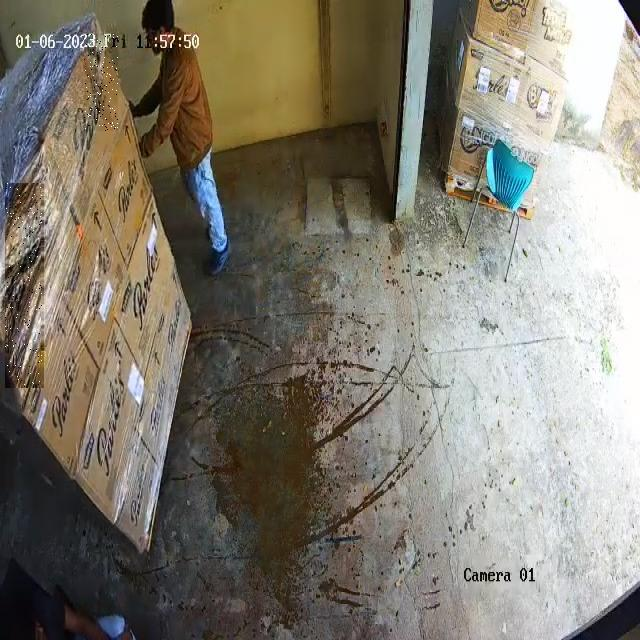squeeze: (6, 183, 42, 388), (84, 34, 118, 131)
